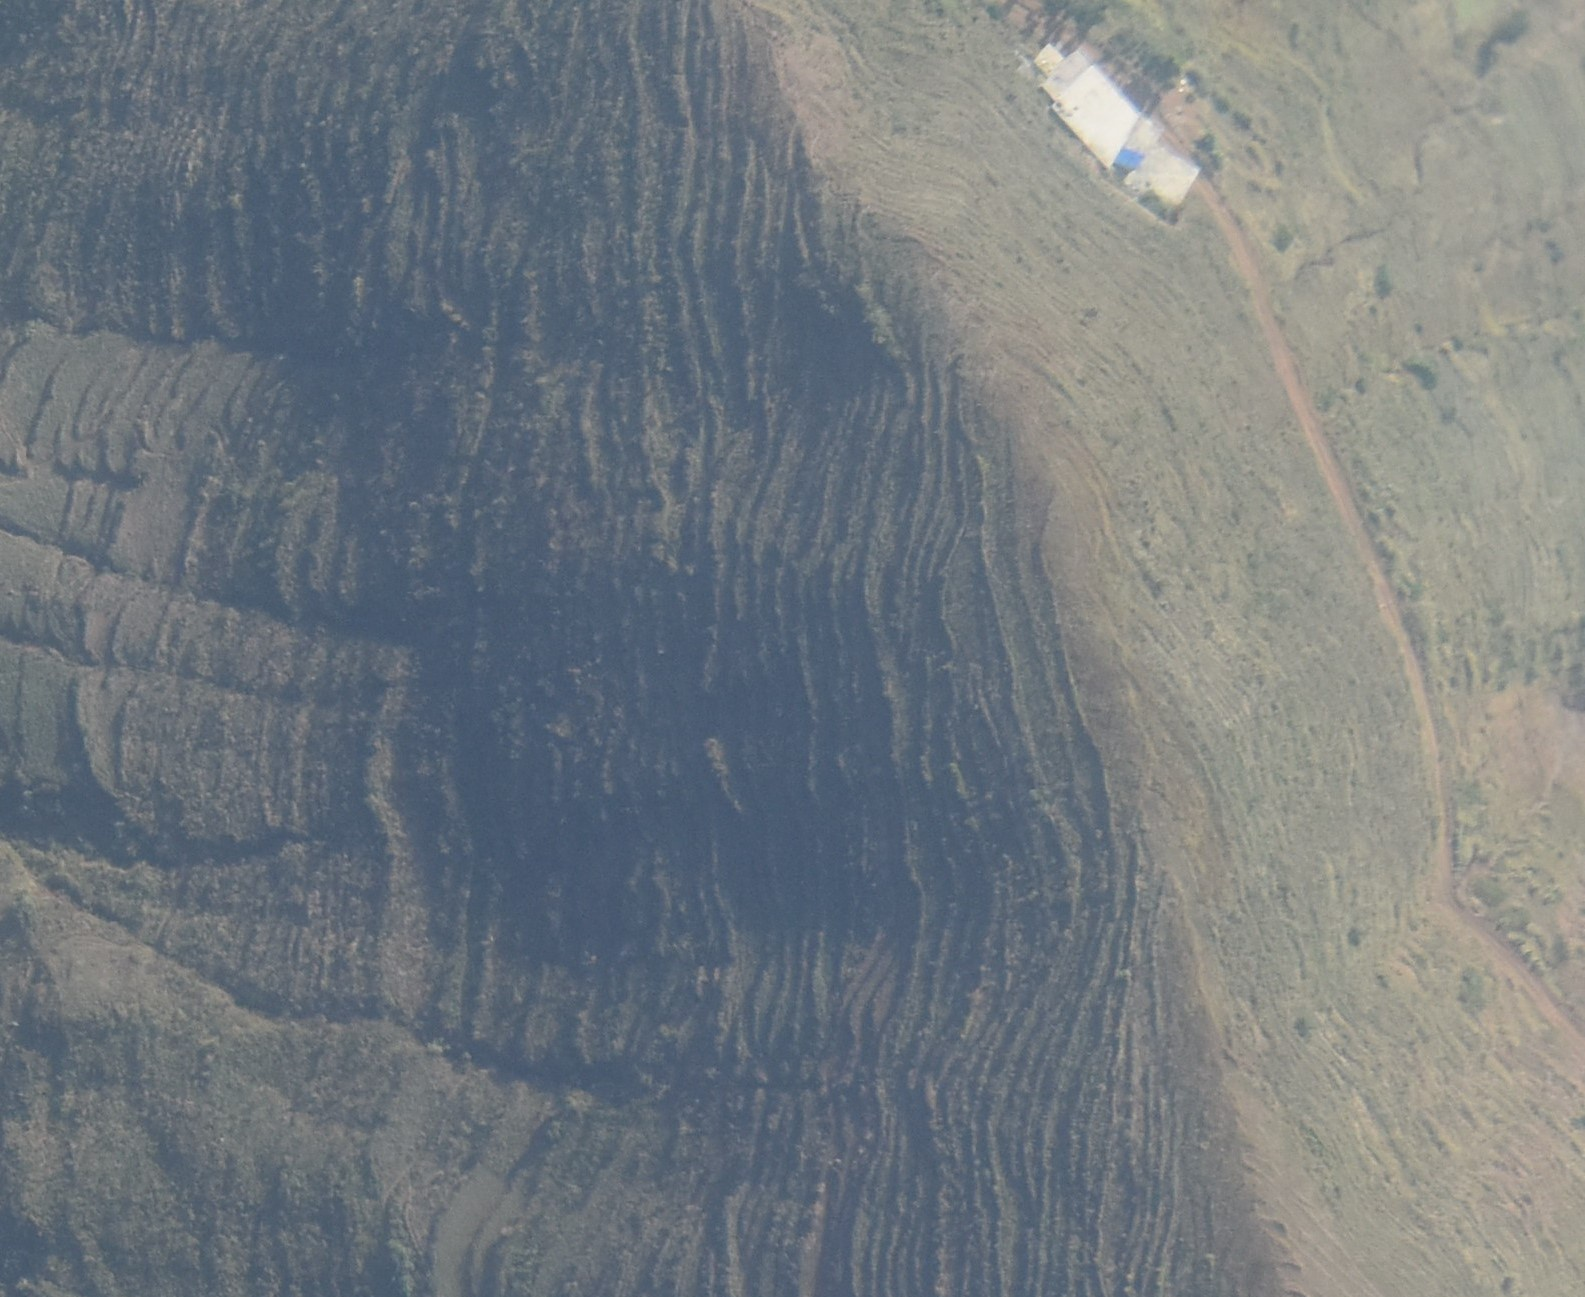building: (1033, 43, 1201, 212)
